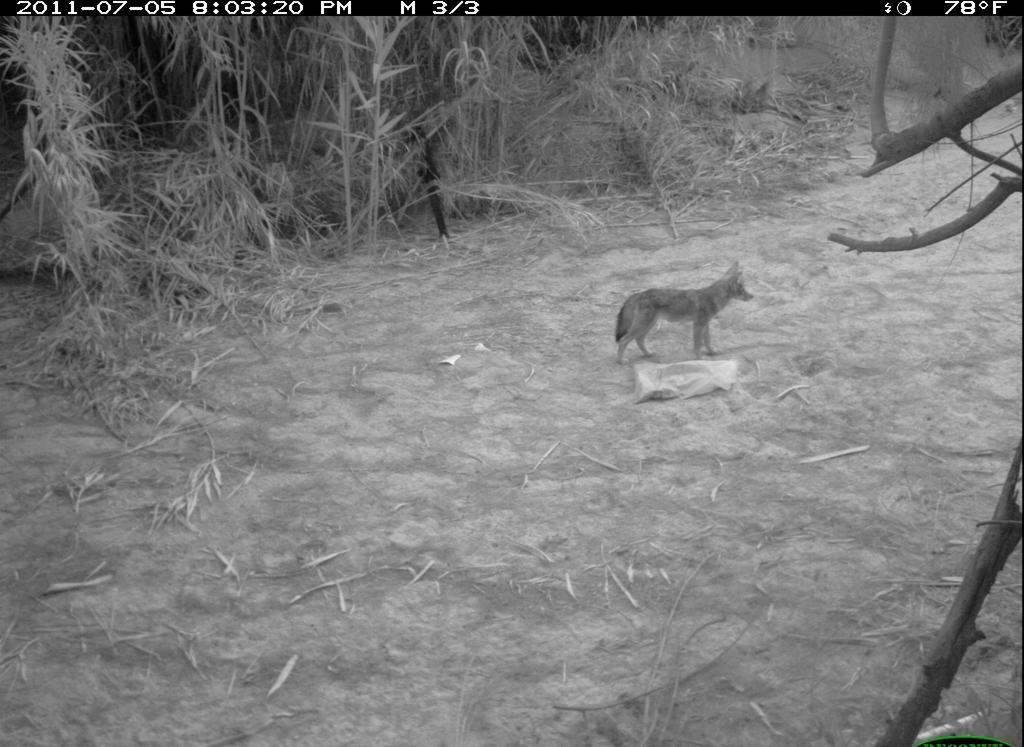coyote: (611, 258, 753, 369)
